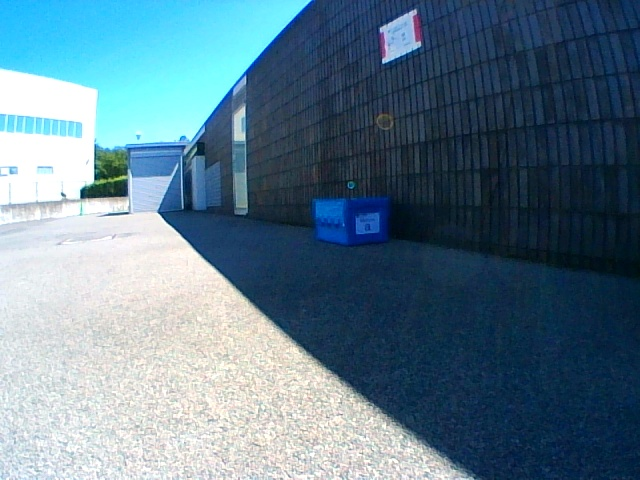blue_box: (313, 198, 389, 244)
tag_a: (358, 215, 377, 232)
